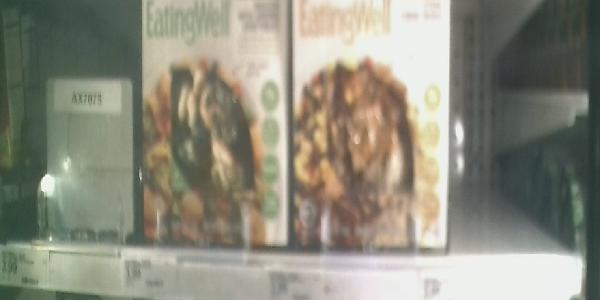pizza1: (290, 1, 447, 252), (138, 1, 290, 252)
